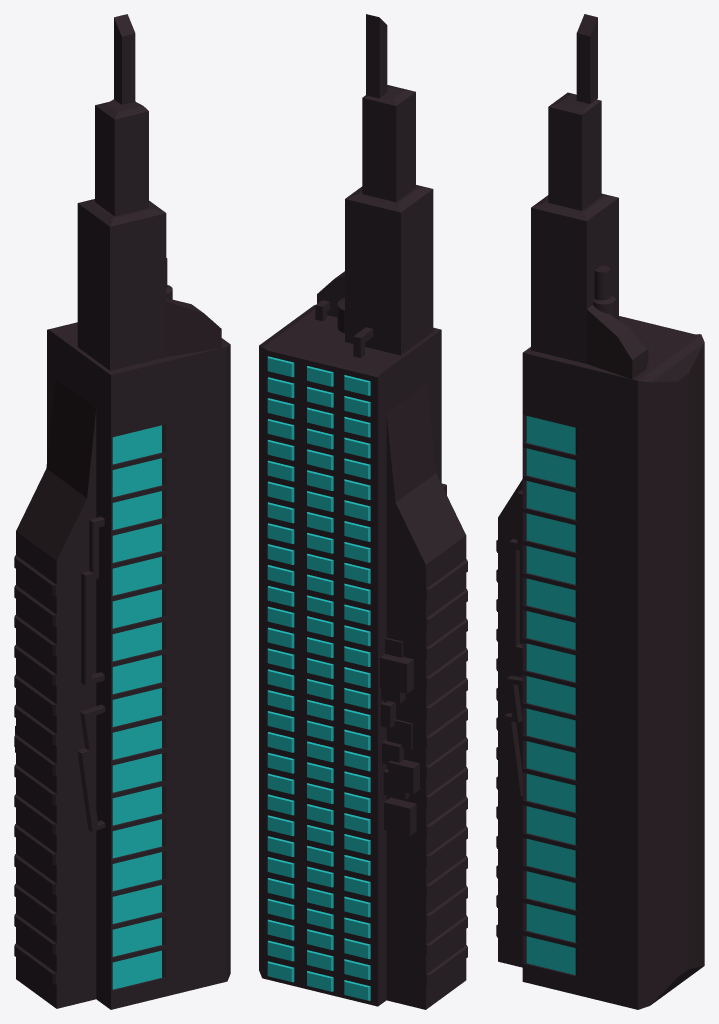
The model's file is jaydensawesomeskyscraper.fbx.
The picture shows the model from 3 angles, left to right: view 1: azimuth 30°, elevation 25°; view 2: azimuth 150°, elevation 25°; view 3: azimuth 330°, elevation 25°; orthographic projection.
Parts seen in each view (by area): view 1: Cube; view 2: Cube; view 3: Cube.
Part boxes in pixels (x1,y1,x2,y2): Cube: [14, 14, 230, 1009]; Cube: [259, 14, 467, 1009]; Cube: [496, 14, 704, 1009].
Bounding box in the file's own units: 1315 × 7022 × 862.
